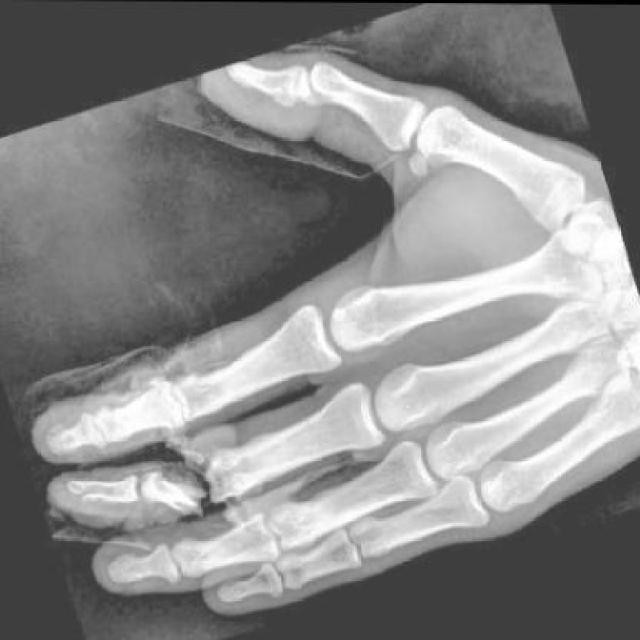Fracture: (151, 443, 247, 522), (66, 460, 126, 516)
